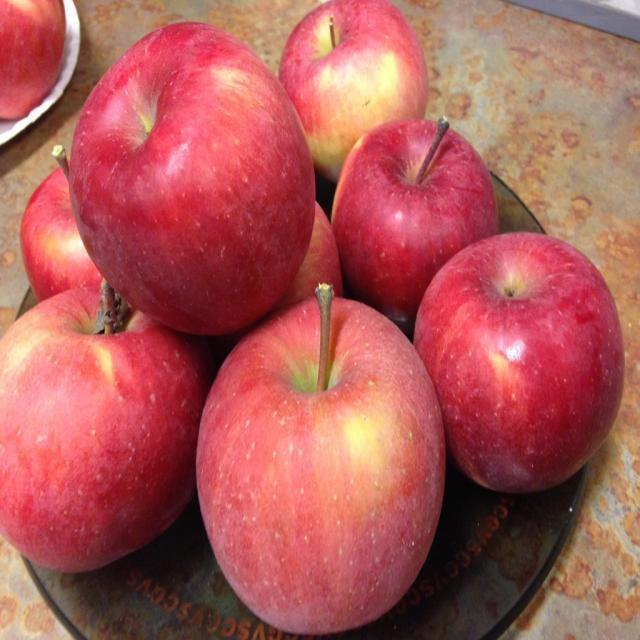Apple: (0, 0, 625, 634), (2, 3, 62, 118)
